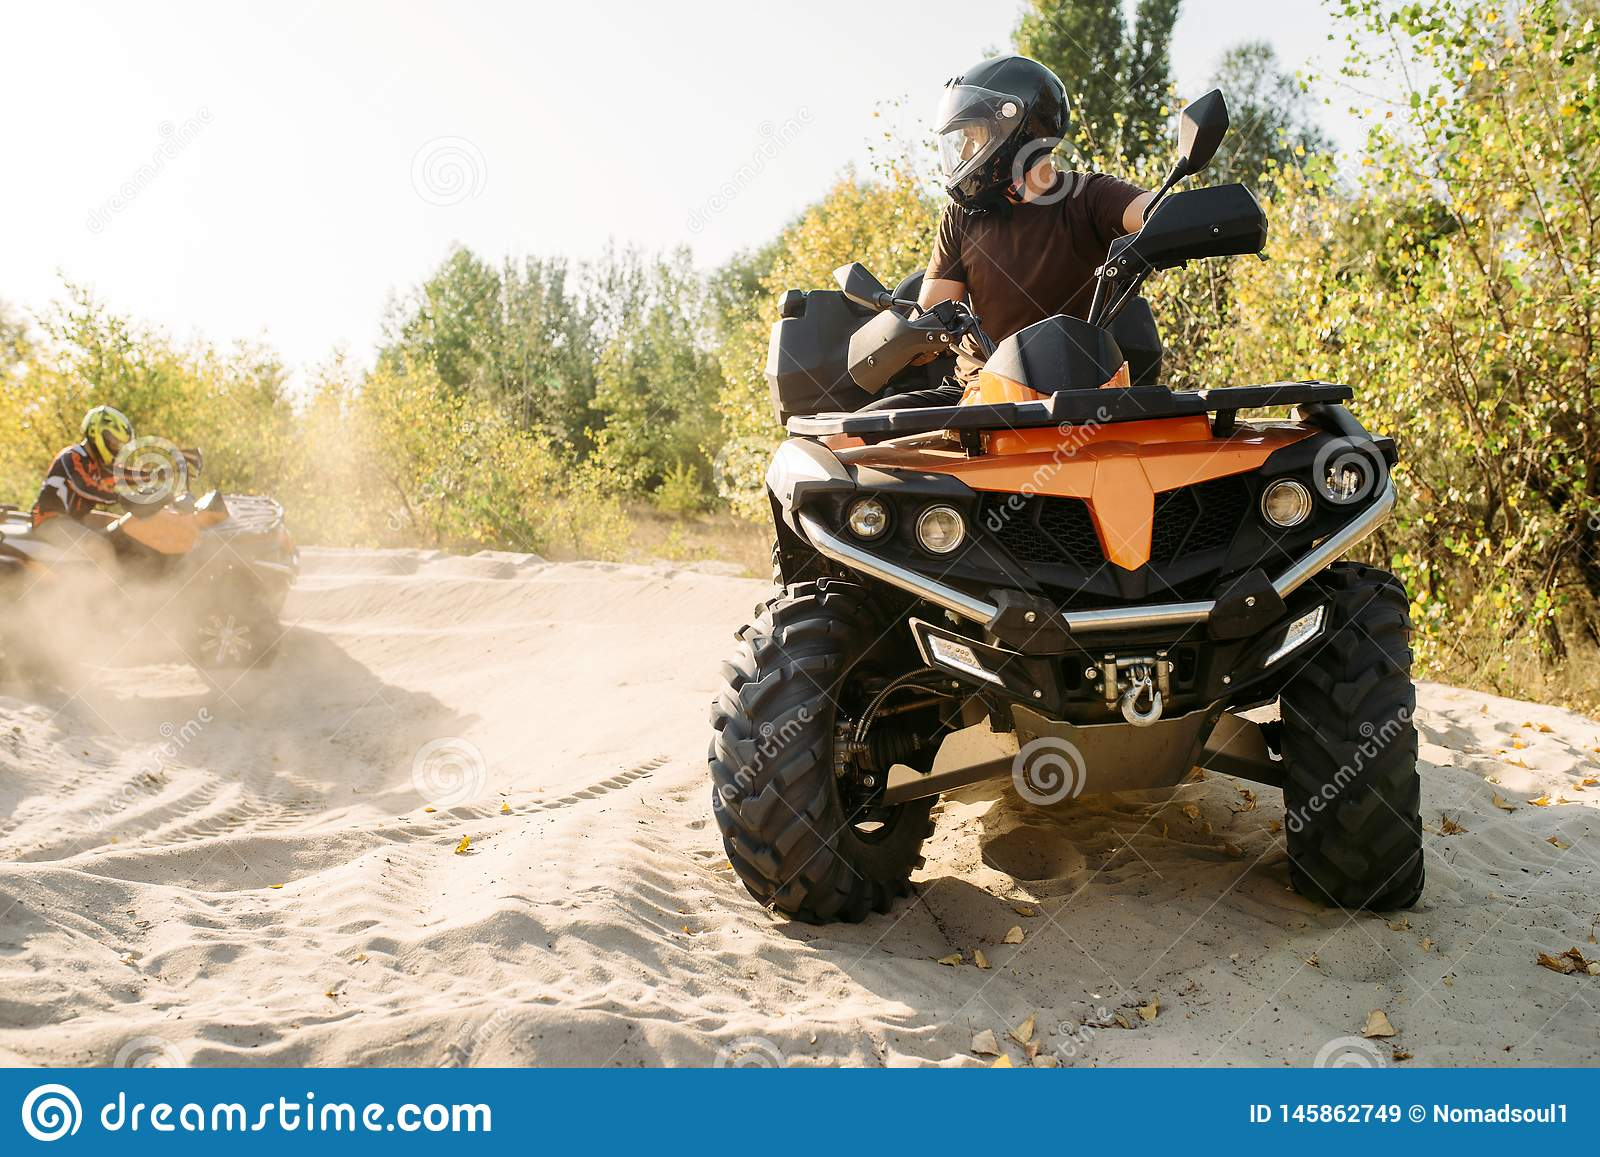helmet: (925, 52, 1080, 200)
